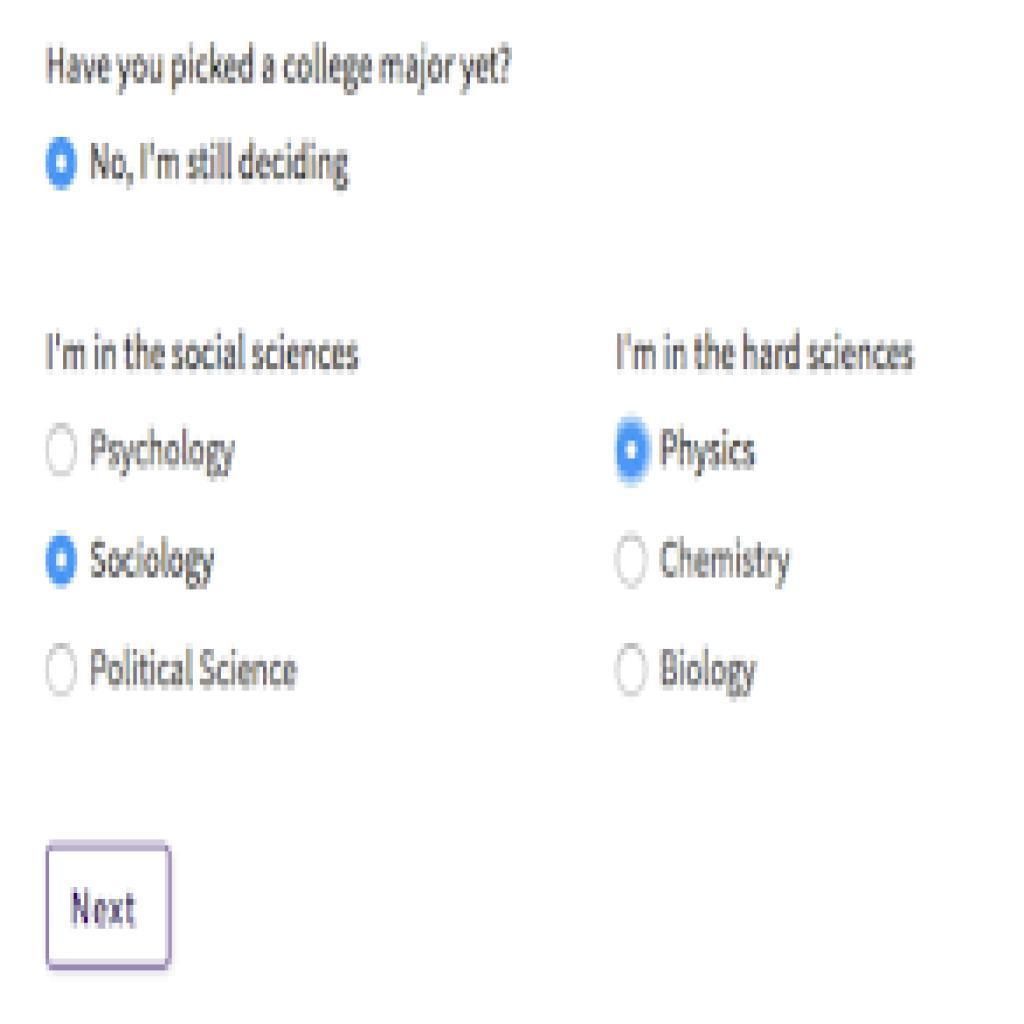button: (46, 843, 173, 974)
radio: (612, 410, 657, 488), (43, 134, 81, 198), (43, 531, 81, 593), (42, 642, 82, 699), (614, 530, 652, 586), (45, 422, 80, 481), (616, 646, 652, 699)
